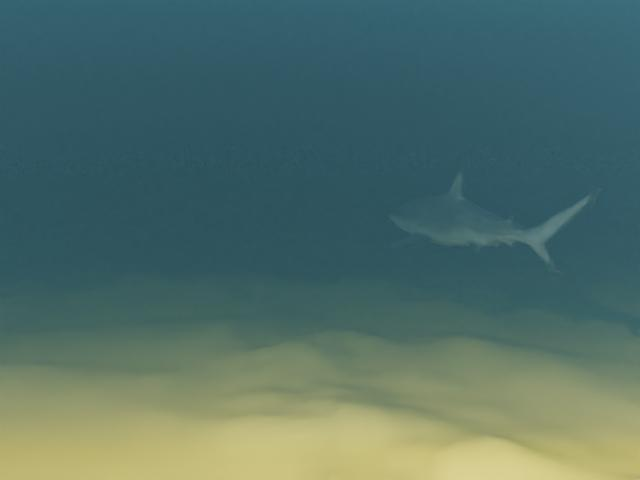Carribean Shark.001: (382, 167, 601, 273)
